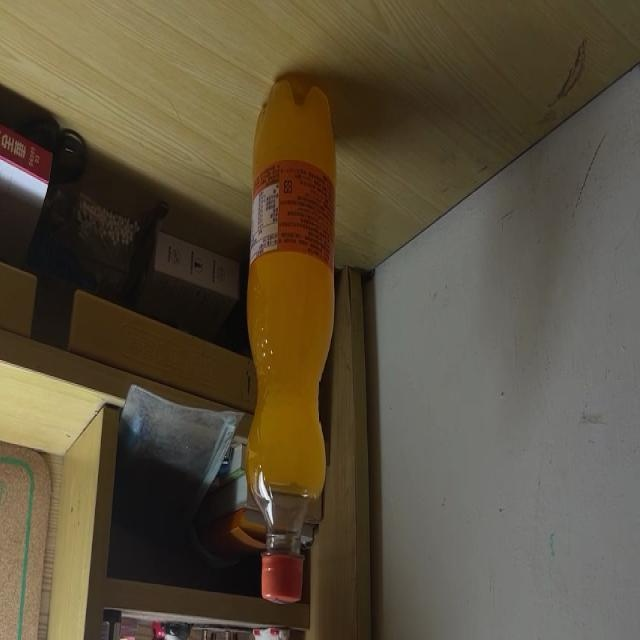Fanta: (245, 79, 337, 604)
